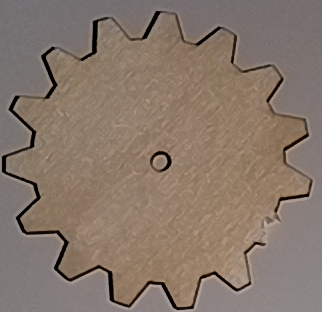Missing: (246, 206, 296, 252)
